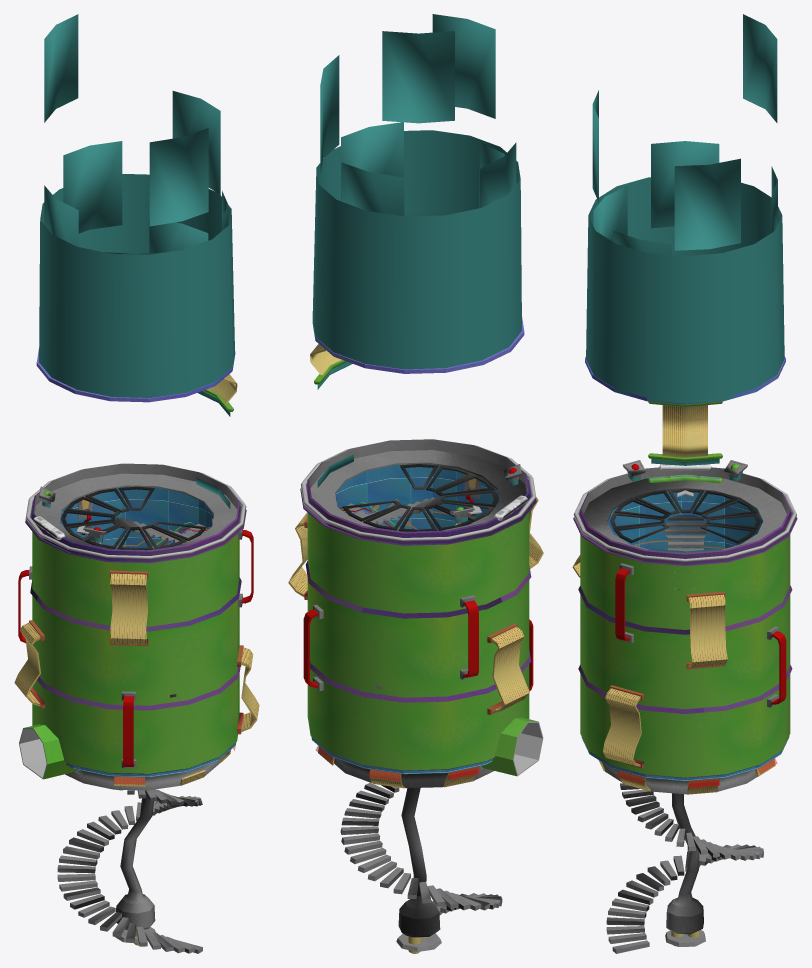
Rendered from MemeFactory_Tower_02_Art.fbx.
3 views of the same model, side by side, from view 1: azimuth 30°, elevation 25°; view 2: azimuth 150°, elevation 25°; view 3: azimuth 270°, elevation 25° (orthographic). The views are drawn at different scales.
Visible parts, largest first — view 1: MemeFactory_Tower_02_Art; view 2: MemeFactory_Tower_02_Art; view 3: MemeFactory_Tower_02_Art.
Part boxes in pixels (x1,y1,x2,y2): MemeFactory_Tower_02_Art: (14, 14, 259, 953); MemeFactory_Tower_02_Art: (288, 14, 543, 953); MemeFactory_Tower_02_Art: (572, 14, 797, 953).
Bounding box in the file's own units: 1706 × 6817 × 1545.
